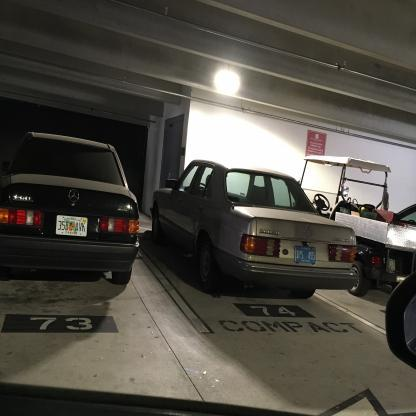License-Plate: (51, 208, 93, 240), (288, 238, 321, 268)
